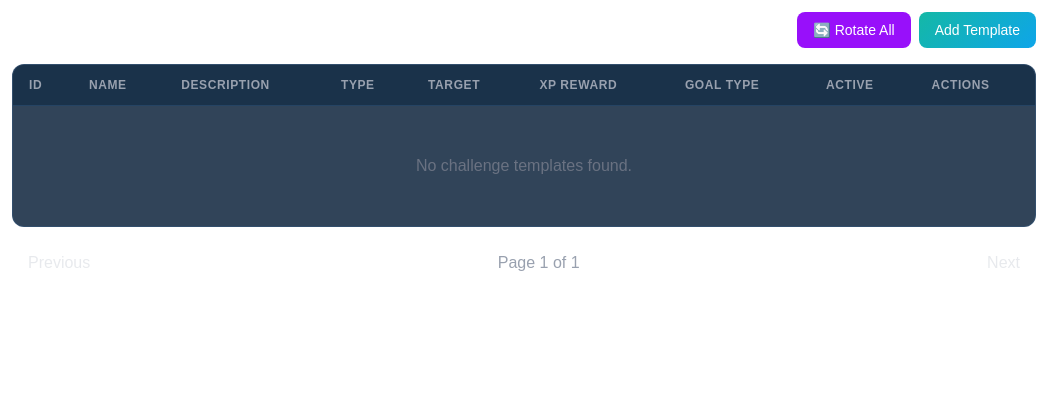
ChallengeTemplatesTable › error handling › shows error when create fails
expect the text "No challenge templates found." is shown: met, box [13,106,1035,226]
Click the button "Add Template": (977, 30) [919,12,1036,48]
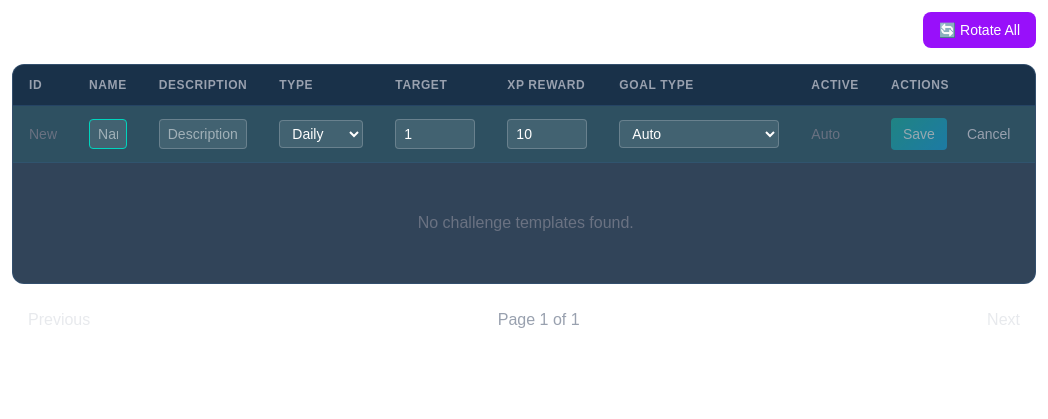
expect the field with placeholder "Name" is shown: met
In the field with placeholder "Name": (108, 134) [89,119,127,149], type "Test"
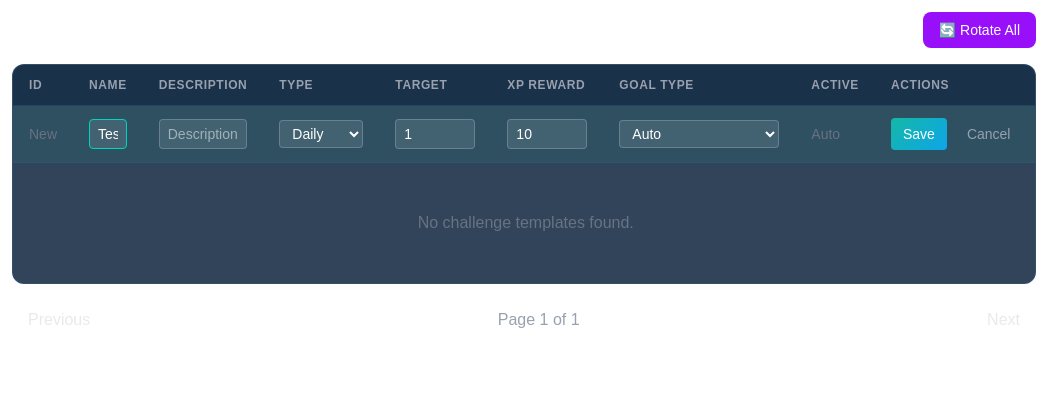
Click the button "Save": (919, 134) [891,118,947,150]
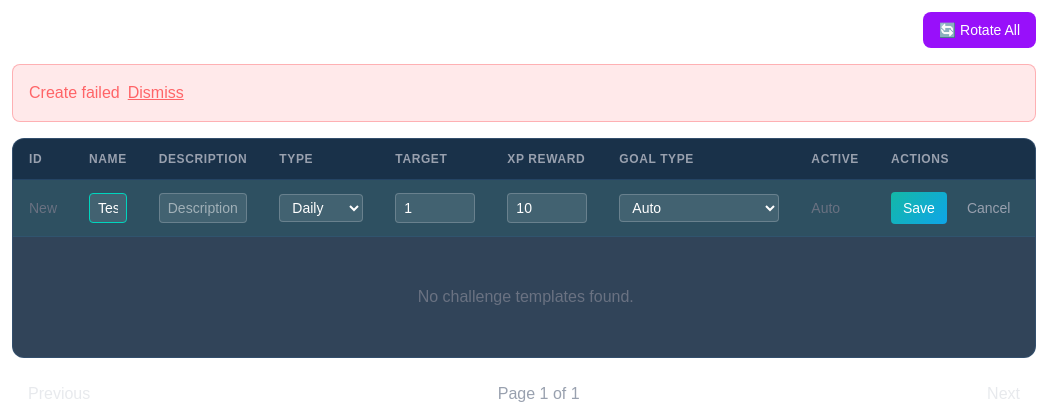
expect the text "Create failed Dismiss" is shown: met, box [12,64,1036,122]
